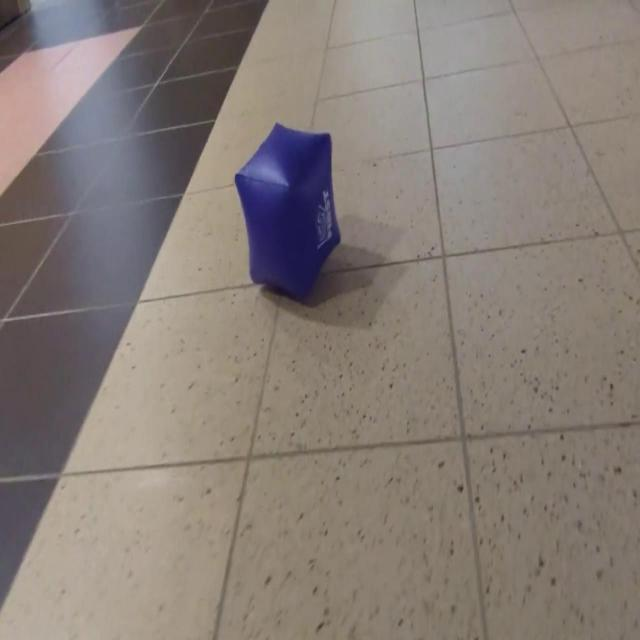frc_cube: (234, 125, 342, 302)
